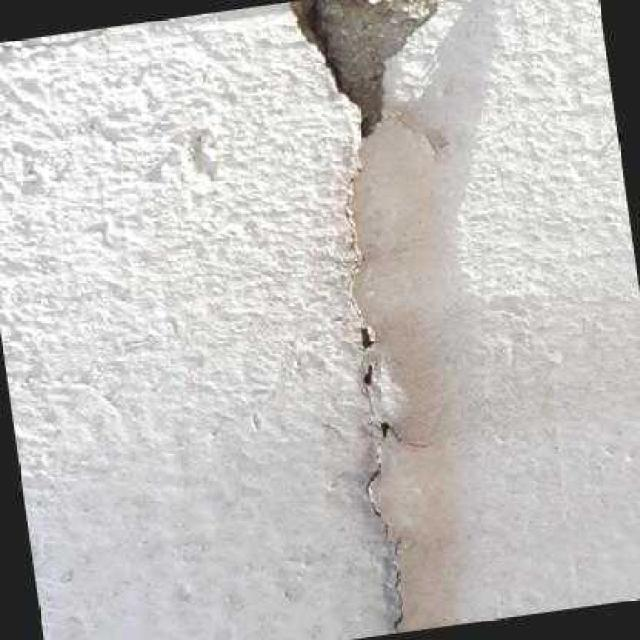D00: (340, 134, 405, 633)
